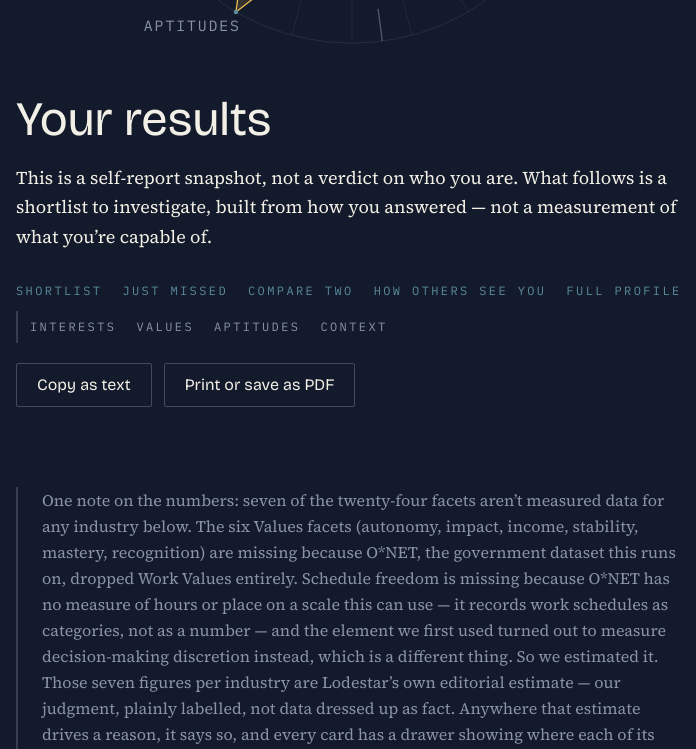
Test: <Results> additions › copies the results as Markdown
(page scrolled)
Click the button "Copy as text" at (84, 385), box 16,363 -> 152,407
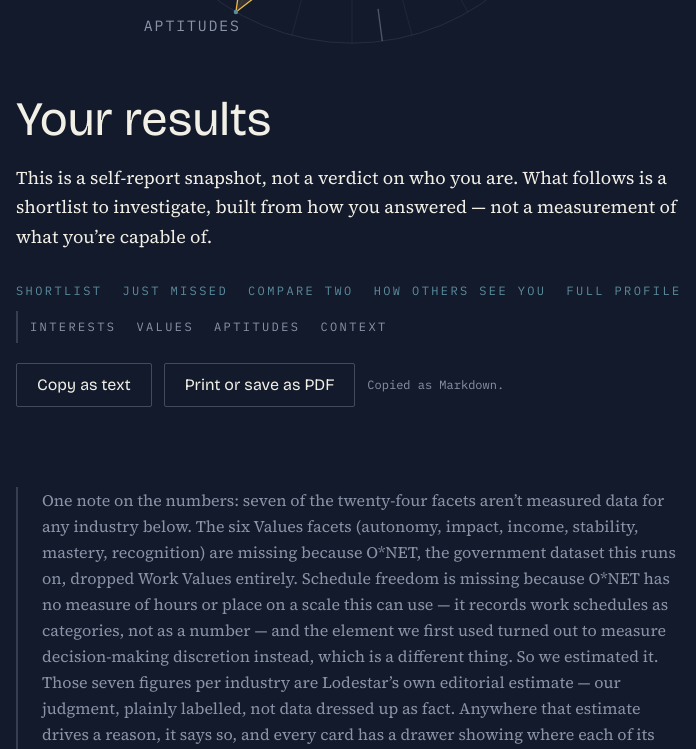
Check: the text "Copied as Markdown" is shown, box 367,377 -> 504,392
